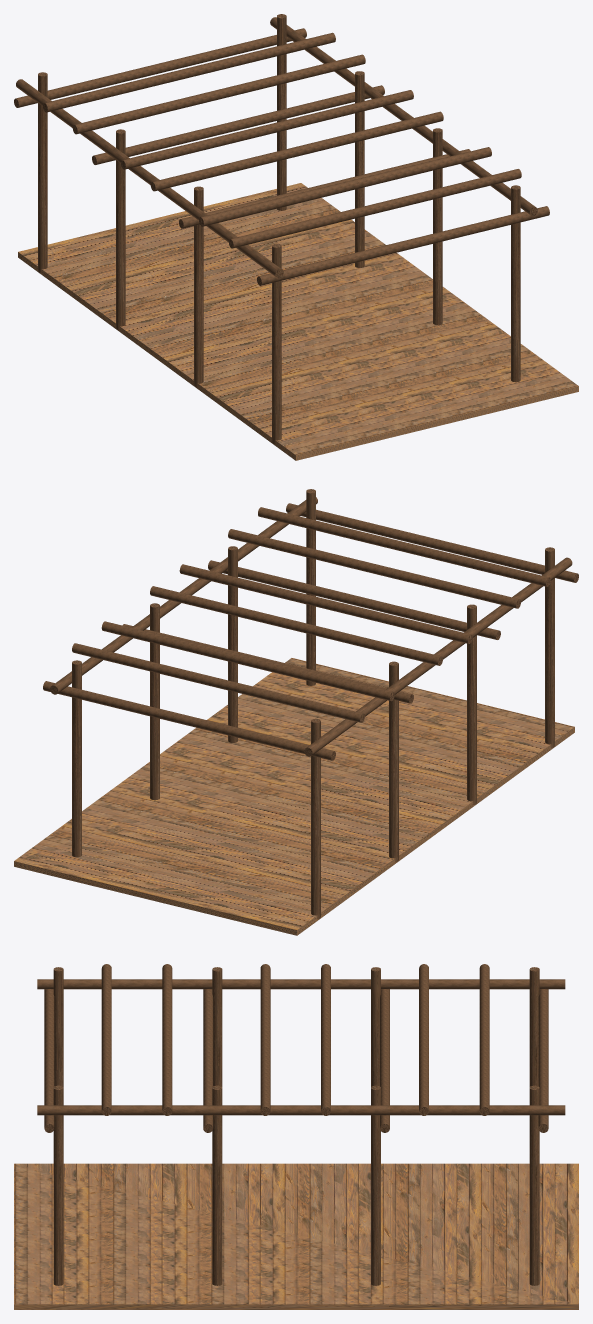
The model's file is Meditation_PlatformExt.fbx.
The picture shows the model from 3 angles, top to bottom: view 1: azimuth 30°, elevation 25°; view 2: azimuth 150°, elevation 25°; view 3: azimuth 270°, elevation 25°; orthographic projection.
Visible parts, largest first — view 1: pasted__Platform, pasted__pasted__pasted__Pole_VertFR (×2), pasted__pasted__pasted__pasted__Pole_VertFR (×2), pasted__pasted__Pole_VertFR (×2), pasted__pasted__Pole_VertFR1 (×2), pasted__pasted__pCylinder1 (×2), pasted__Pole_VertFR (×2), pasted__pasted__pasted__pasted__pasted__Pole_VertFR, pasted__pasted__pasted__Pole_VertFR1, pasted__Pole_VertFR1, pasted__Pole_VertFR2, pasted__pasted__Pole_VertFR2 (+3 smaller); view 2: pasted__Platform, pasted__pasted__pasted__pasted__Pole_VertFR (×2), pasted__pasted__pasted__Pole_VertFR (×2), pasted__pasted__Pole_VertFR1 (×2), pasted__pasted__Pole_VertFR (×2), pasted__Pole_VertFR (×2), pasted__pasted__pCylinder1 (×2), pasted__pasted__pasted__pasted__pasted__Pole_VertFR, pasted__pasted__pasted__Pole_VertFR1, pasted__Pole_VertFR2, pasted__pasted__Pole_VertFR2, pasted__pCylinder1 (+3 smaller); view 3: pasted__Platform, pasted__pasted__Pole_VertFR2, pasted__Pole_VertFR2, pasted__pasted__Pole_VertFR (×2), pasted__pasted__pasted__Pole_VertFR (×2), pasted__pasted__pCylinder1 (×2), pasted__pasted__pasted__pasted__Pole_VertFR (×2), pasted__Pole_VertFR (×2), pasted__pasted__Pole_VertFR1 (×2), pasted__pasted__pasted__pCylinder1, pasted__pasted__pasted__pasted__pasted__Pole_VertFR, pasted__pasted__pasted__Pole_VertFR1 (+3 smaller).
Boxes of the visible parts, bbox=[...] form: pasted__Platform: bbox=[18, 183, 578, 460]; pasted__pasted__pasted__Pole_VertFR (×2): bbox=[43, 32, 443, 191]; pasted__pasted__pasted__pasted__Pole_VertFR (×2): bbox=[72, 54, 491, 226]; pasted__pasted__Pole_VertFR (×2): bbox=[121, 14, 413, 210]; pasted__pasted__Pole_VertFR1 (×2): bbox=[14, 28, 470, 228]; pasted__pasted__pCylinder1 (×2): bbox=[272, 128, 442, 444]; pasted__Pole_VertFR (×2): bbox=[38, 71, 364, 272]; pasted__pasted__pasted__pasted__pasted__Pole_VertFR: bbox=[228, 169, 521, 248]; pasted__pasted__pasted__Pole_VertFR1: bbox=[257, 206, 549, 285]; pasted__Pole_VertFR1: bbox=[92, 85, 384, 164]; pasted__Pole_VertFR2: bbox=[16, 79, 283, 278]; pasted__pasted__Pole_VertFR2: bbox=[270, 17, 537, 216]; pasted__Platform: bbox=[14, 658, 574, 935]; pasted__pasted__pasted__pasted__Pole_VertFR (×2): bbox=[101, 529, 520, 701]; pasted__pasted__pasted__Pole_VertFR (×2): bbox=[72, 564, 472, 722]; pasted__pasted__Pole_VertFR1 (×2): bbox=[43, 560, 500, 760]; pasted__pasted__Pole_VertFR (×2): bbox=[72, 586, 442, 857]; pasted__Pole_VertFR (×2): bbox=[150, 603, 320, 919]; pasted__pasted__pCylinder1 (×2): bbox=[228, 546, 554, 747]; pasted__pasted__pasted__pasted__pasted__Pole_VertFR: bbox=[258, 507, 550, 586]; pasted__pasted__pasted__Pole_VertFR1: bbox=[286, 503, 578, 582]; pasted__Pole_VertFR2: bbox=[304, 557, 572, 756]; pasted__pasted__Pole_VertFR2: bbox=[50, 497, 317, 694]; pasted__pCylinder1: bbox=[467, 604, 476, 804]; pasted__Platform: bbox=[14, 1163, 578, 1309]; pasted__pasted__Pole_VertFR2: bbox=[37, 1105, 565, 1115]; pasted__Pole_VertFR2: bbox=[37, 979, 565, 989]; pasted__pasted__Pole_VertFR (×2): bbox=[321, 964, 539, 1285]; pasted__pasted__pasted__Pole_VertFR (×2): bbox=[260, 964, 489, 1115]; pasted__pasted__pCylinder1 (×2): bbox=[53, 967, 222, 1285]; pasted__pasted__pasted__pasted__Pole_VertFR (×2): bbox=[162, 964, 428, 1115]; pasted__Pole_VertFR (×2): bbox=[371, 967, 539, 1285]; pasted__pasted__Pole_VertFR1 (×2): bbox=[203, 989, 548, 1132]; pasted__pasted__pasted__pCylinder1: bbox=[53, 1085, 63, 1285]; pasted__pasted__pasted__pasted__pasted__Pole_VertFR: bbox=[101, 964, 111, 1115]; pasted__pasted__pasted__Pole_VertFR1: bbox=[44, 989, 54, 1132].
Size of the model in its own units: 283 by 178 by 451.
9 materials, 9 textured.
